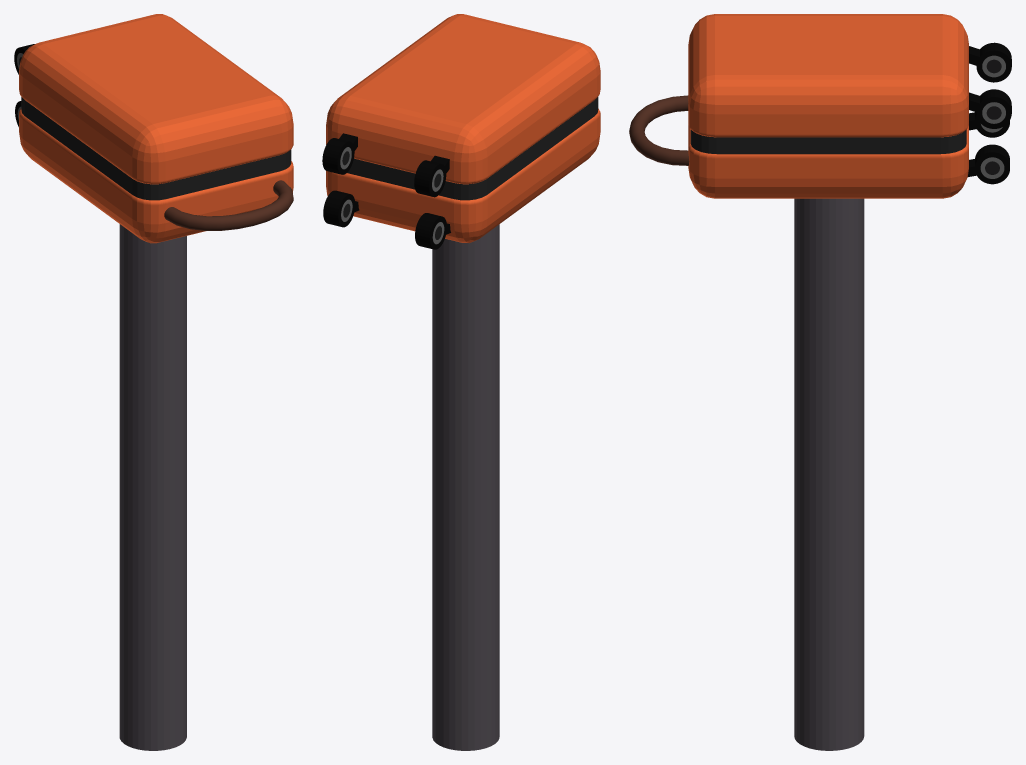
The model's file is tuzuk.fbx.
3 renders of one model, left to right at view 1: azimuth 30°, elevation 25°; view 2: azimuth 150°, elevation 25°; view 3: azimuth 270°, elevation 25°, orthographic. The views are drawn at different scales.
Parts seen in each view (by area): view 1: Cylinder; view 2: Cylinder; view 3: Cylinder.
Part boxes in pixels (box(x1,y1,x2,y2)): Cylinder: box(14, 14, 293, 750); Cylinder: box(322, 14, 600, 750); Cylinder: box(629, 14, 1011, 750).
Bounding box in the file's own units: 541 × 2182 × 1093.
